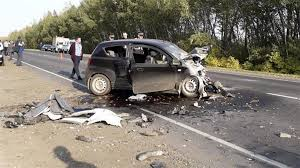car: (82, 36, 215, 105)
